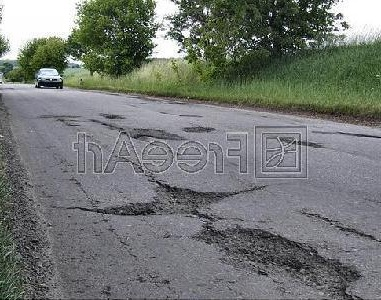pothole: (192, 222, 364, 299), (98, 182, 238, 216), (123, 127, 187, 143), (182, 123, 216, 132)
